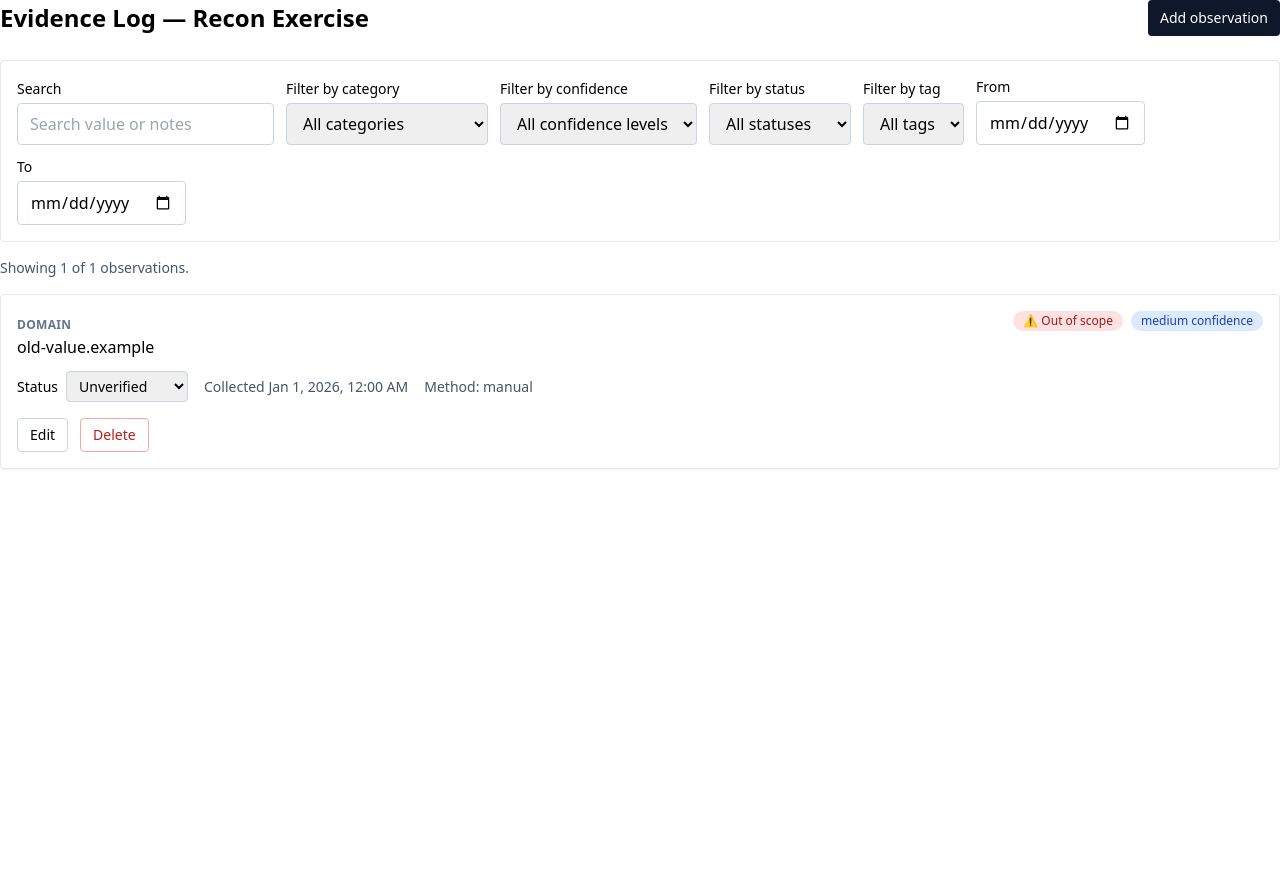
Test: EvidenceScreen — FR-12 edit and delete › edits an observation's value
Click the button "Edit" at (43, 435), box [17,418,68,452]
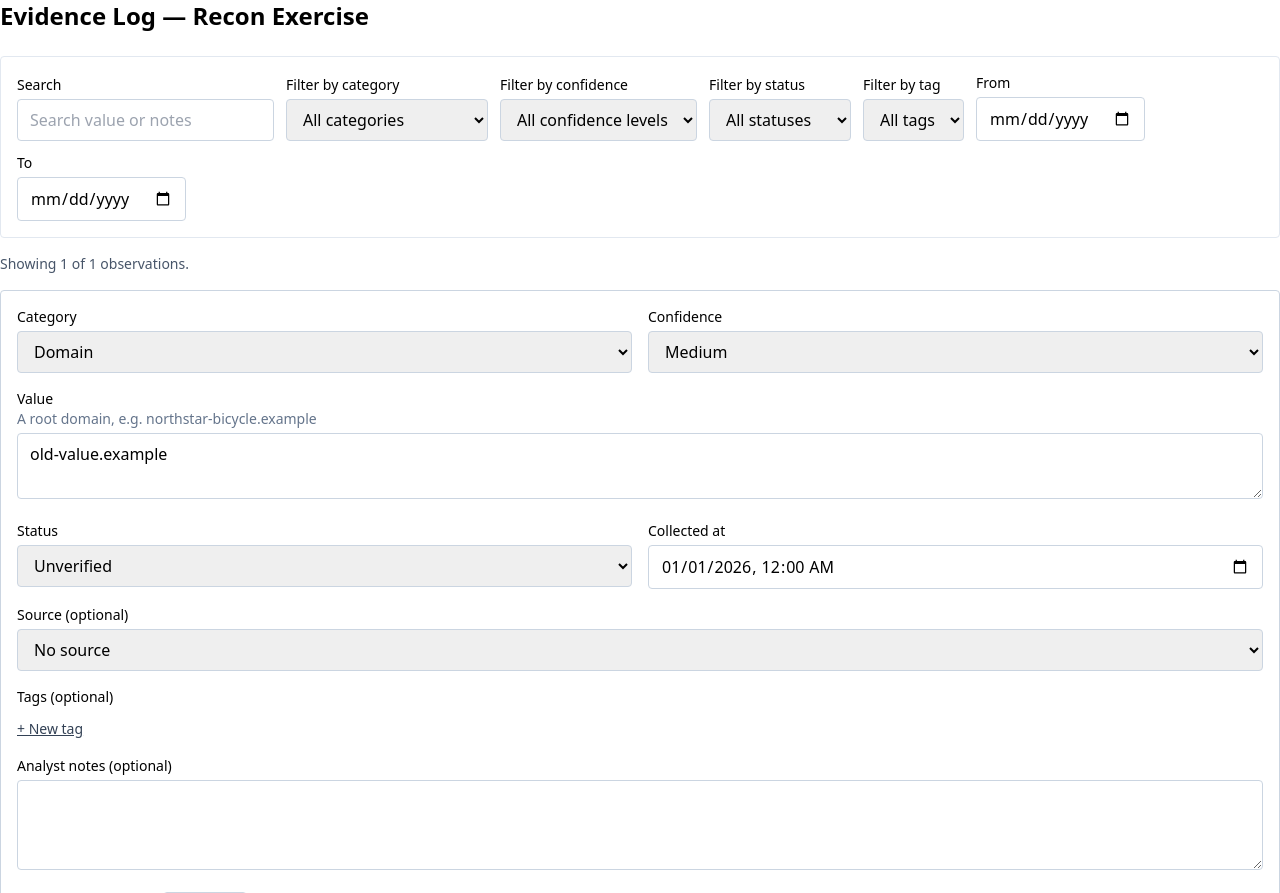
Replace the text in the text box labelled "Value" with "new-value.example" at (640, 466), box [17,433,1263,499]
(page scrolled)
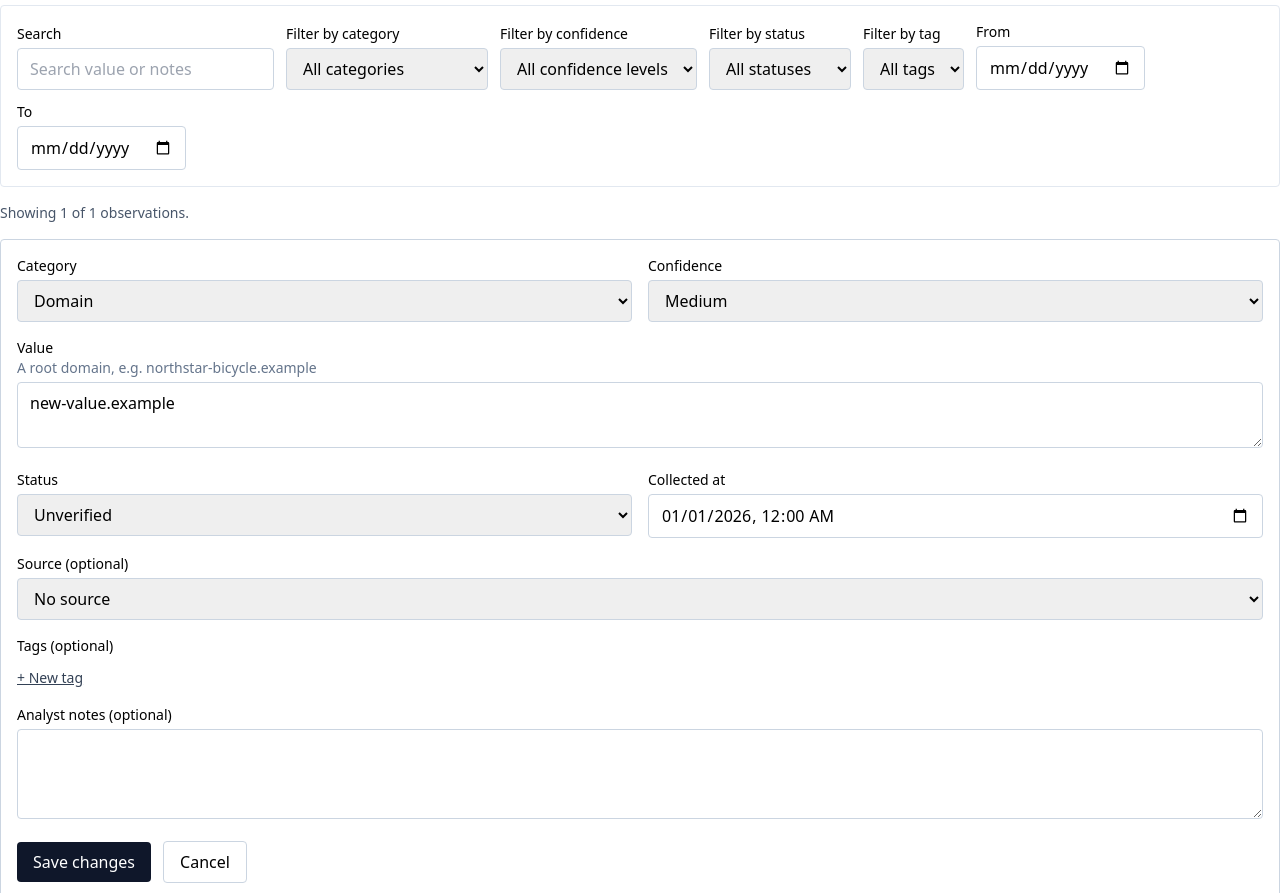
Click the button "Save changes" at (84, 862), box [17,842,151,882]
(page scrolled)
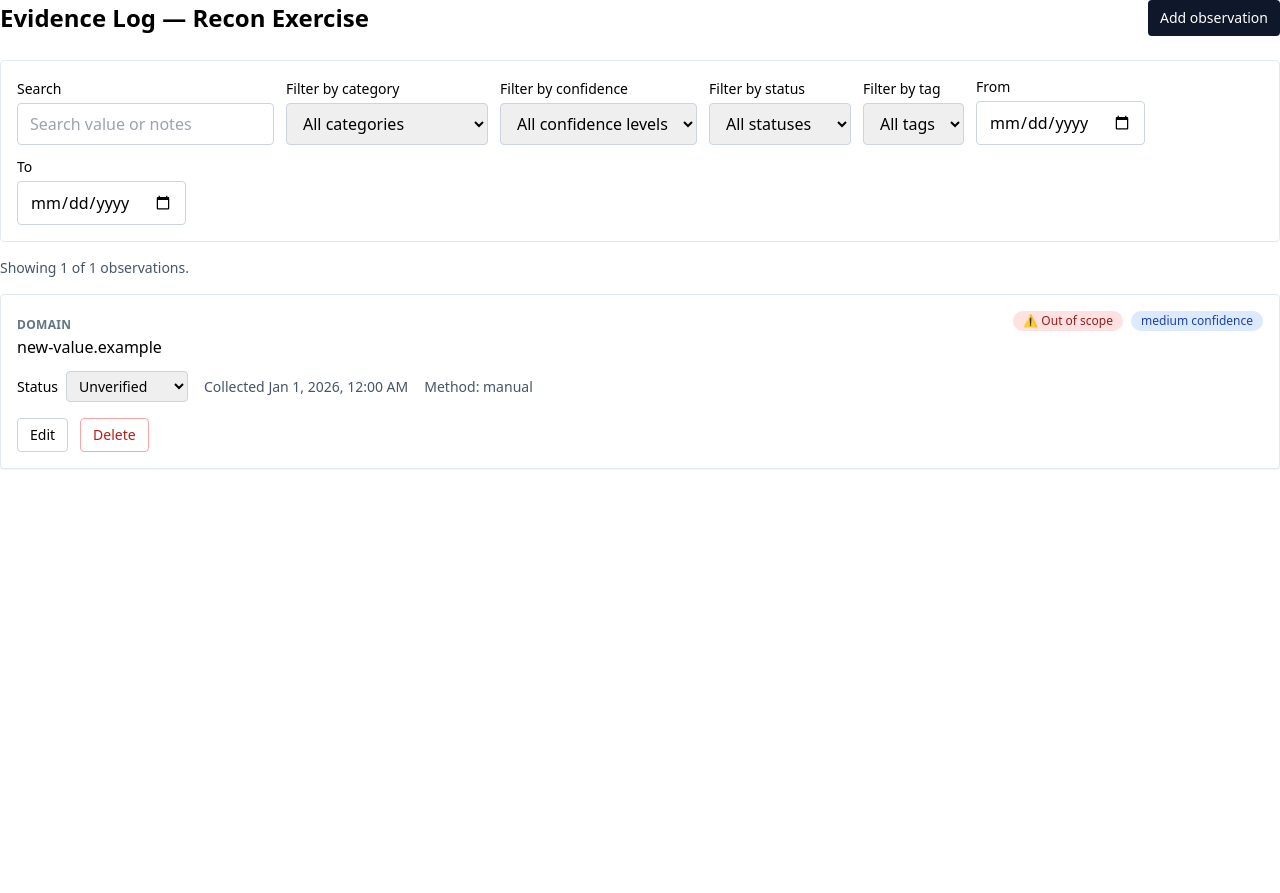
expect the text "old-value.example" is not shown: met
expect the text "new-value.example" is shown: met, box [17,335,162,359]
